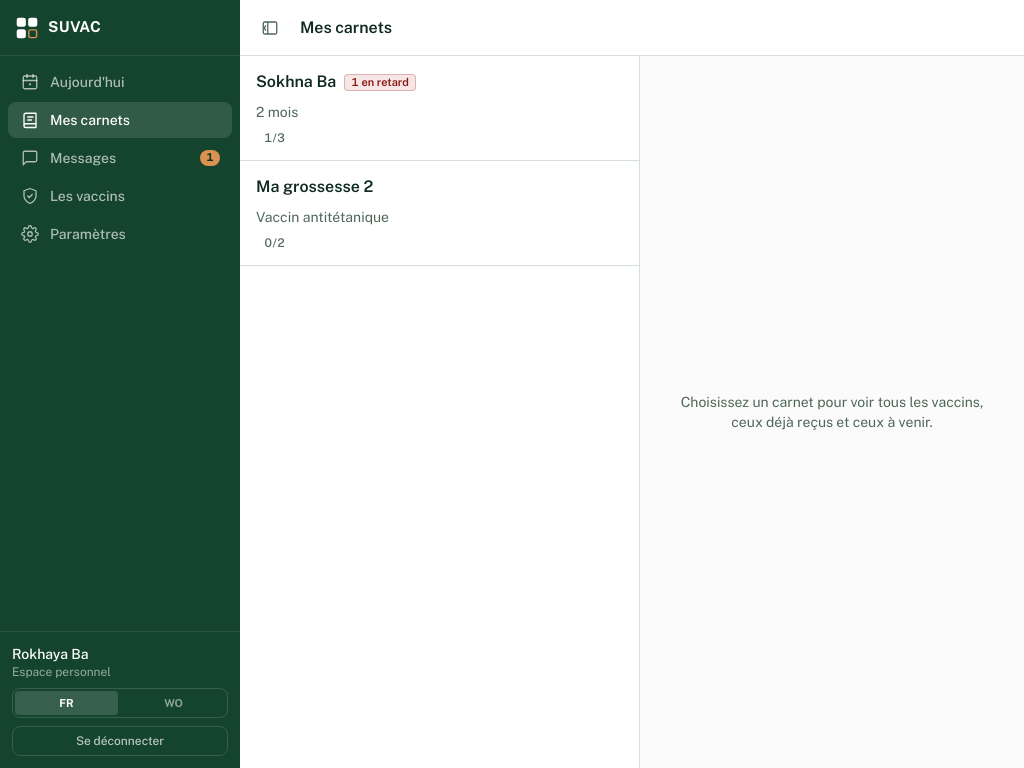
it: Carnets › ouvre le carnet choisi
The image size is (1024, 768).
Click the text "Sokhna Ba": (296, 82) [256,70,336,94]
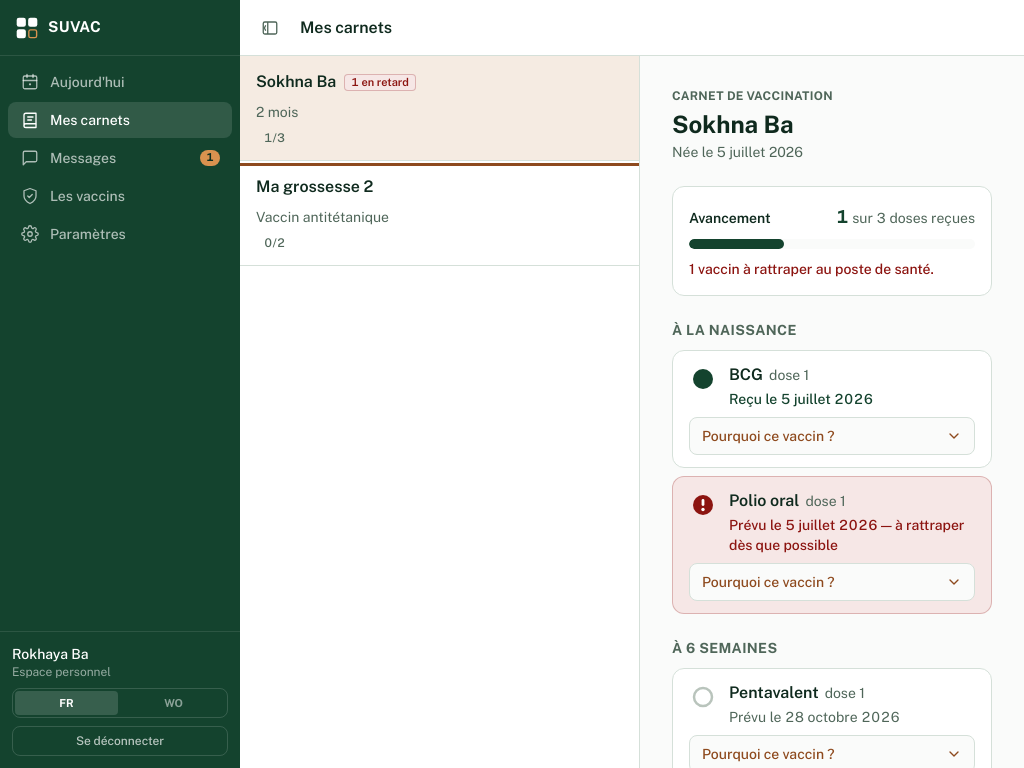
Result: the heading "Sokhna Ba" is shown at [672,110,794,138]
